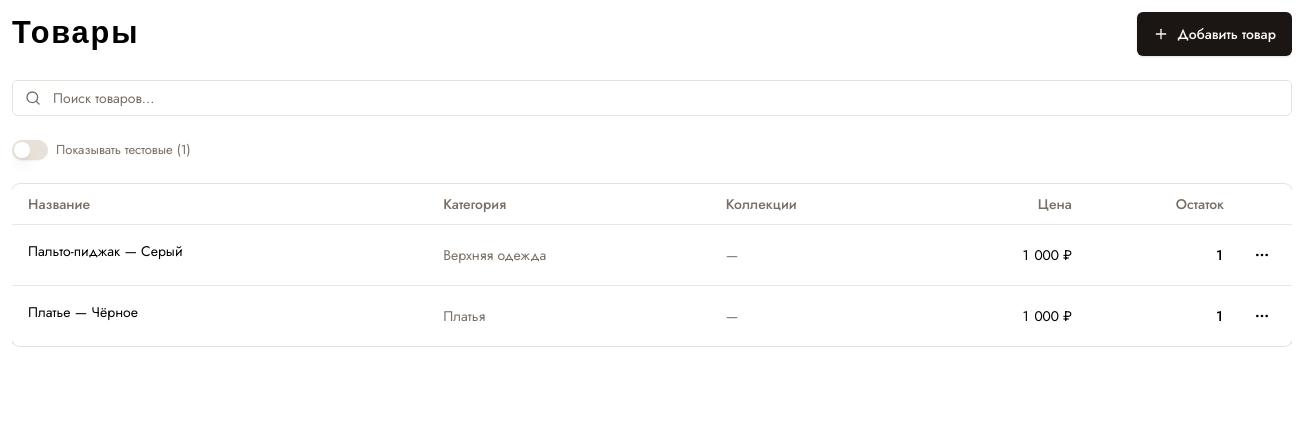
it: список товаров › тестовые скрыты по умолчанию и показываются переключателем
The image size is (1304, 425).
Expected: the text "Пальто-пиджак — Серый" is shown, left=28, top=240, right=182, bottom=260
Expected: the text "Silk Evening Gown" is not shown
What coordinates should you click on to do the following:
click the switch named "Показывать тестовые (1)"
I would click on:
 (30, 150)
Its box is left=12, top=140, right=48, bottom=160.
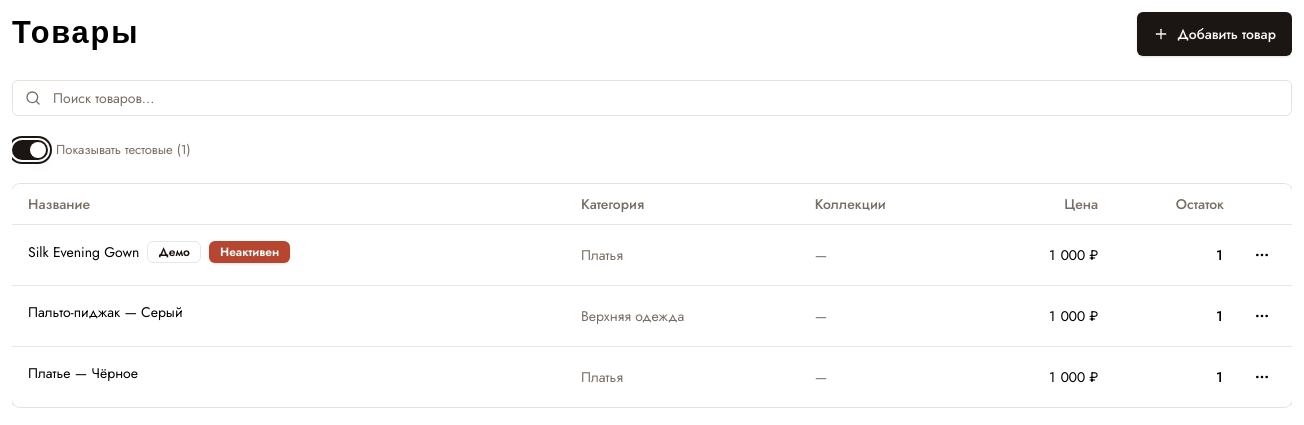
Expected: the text "Silk Evening Gown" is shown, left=28, top=242, right=139, bottom=262
